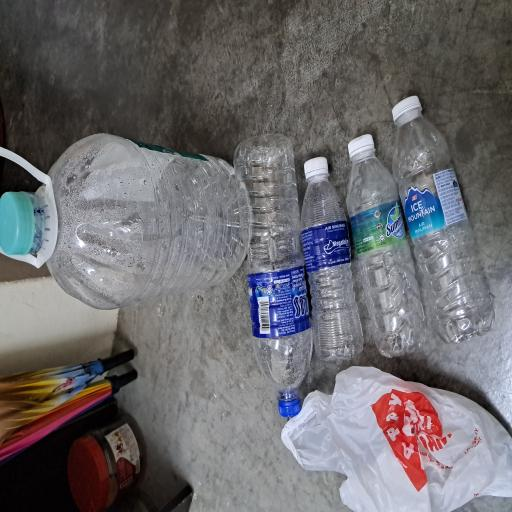plastic bag: (0, 374, 110, 512)
plastic bottle: (152, 48, 284, 336), (86, 313, 286, 418), (112, 400, 253, 486), (116, 461, 268, 512)
plastic bottle cap: (193, 0, 240, 48), (264, 463, 284, 500), (252, 404, 266, 438), (71, 371, 84, 403)
